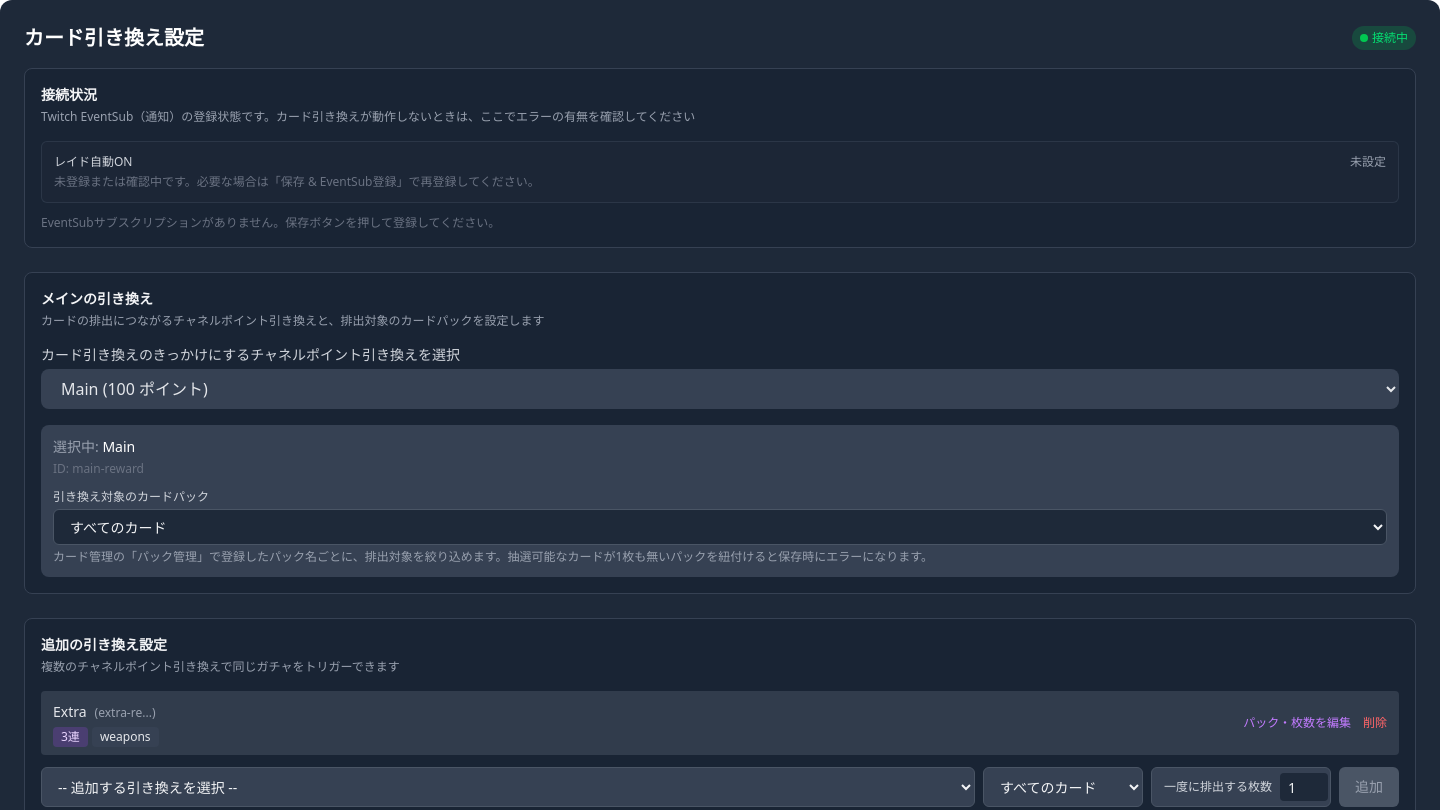
Test: ChannelPointSettings additional-reward editing › closes the edit form on cancel without sending a PUT
Click the button with aria-label "のパック・枚数を編集": (1297, 723) [1243,715,1351,731]
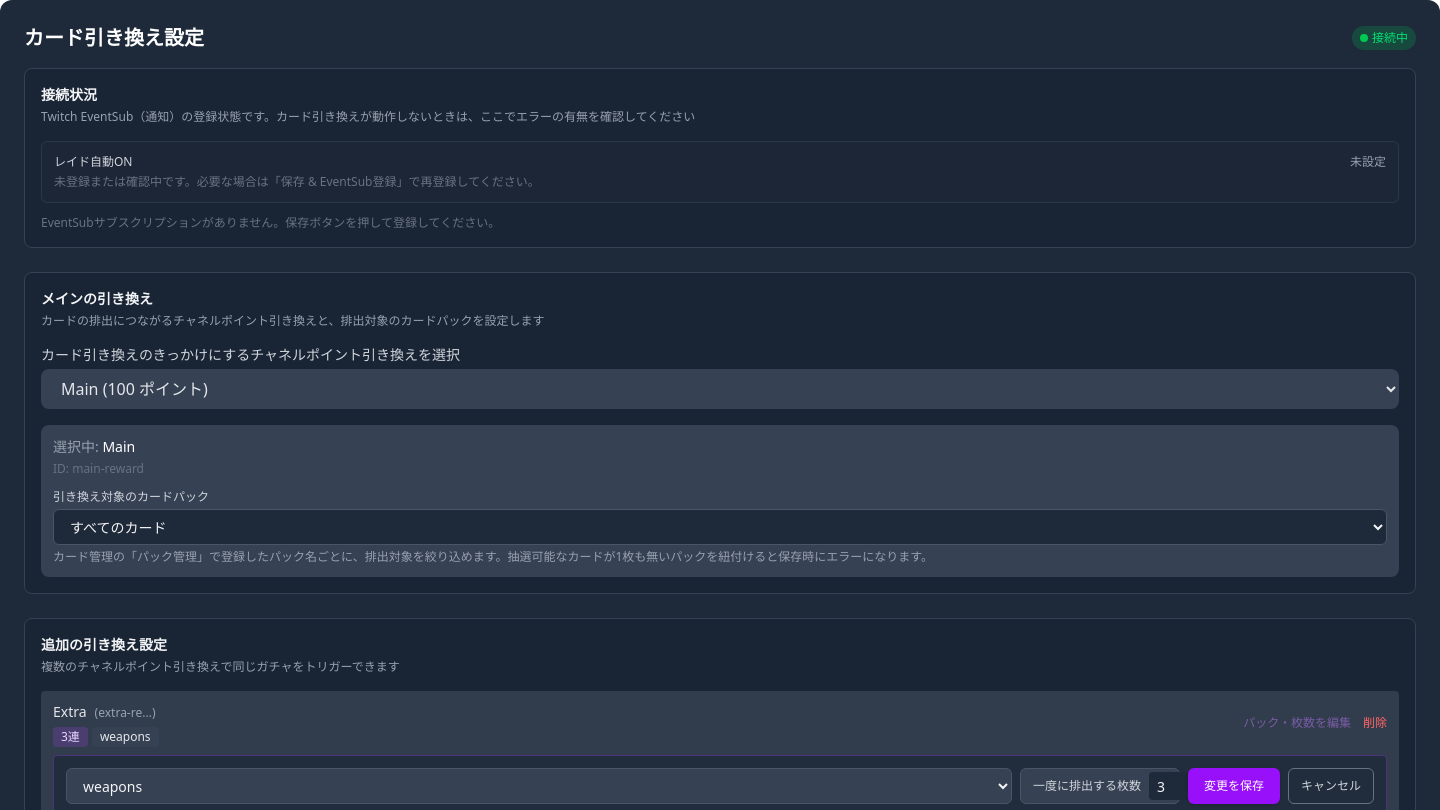
Result: the button "キャンセル" is shown
Click the button "キャンセル": (1331, 786) [1288,768,1374,804]
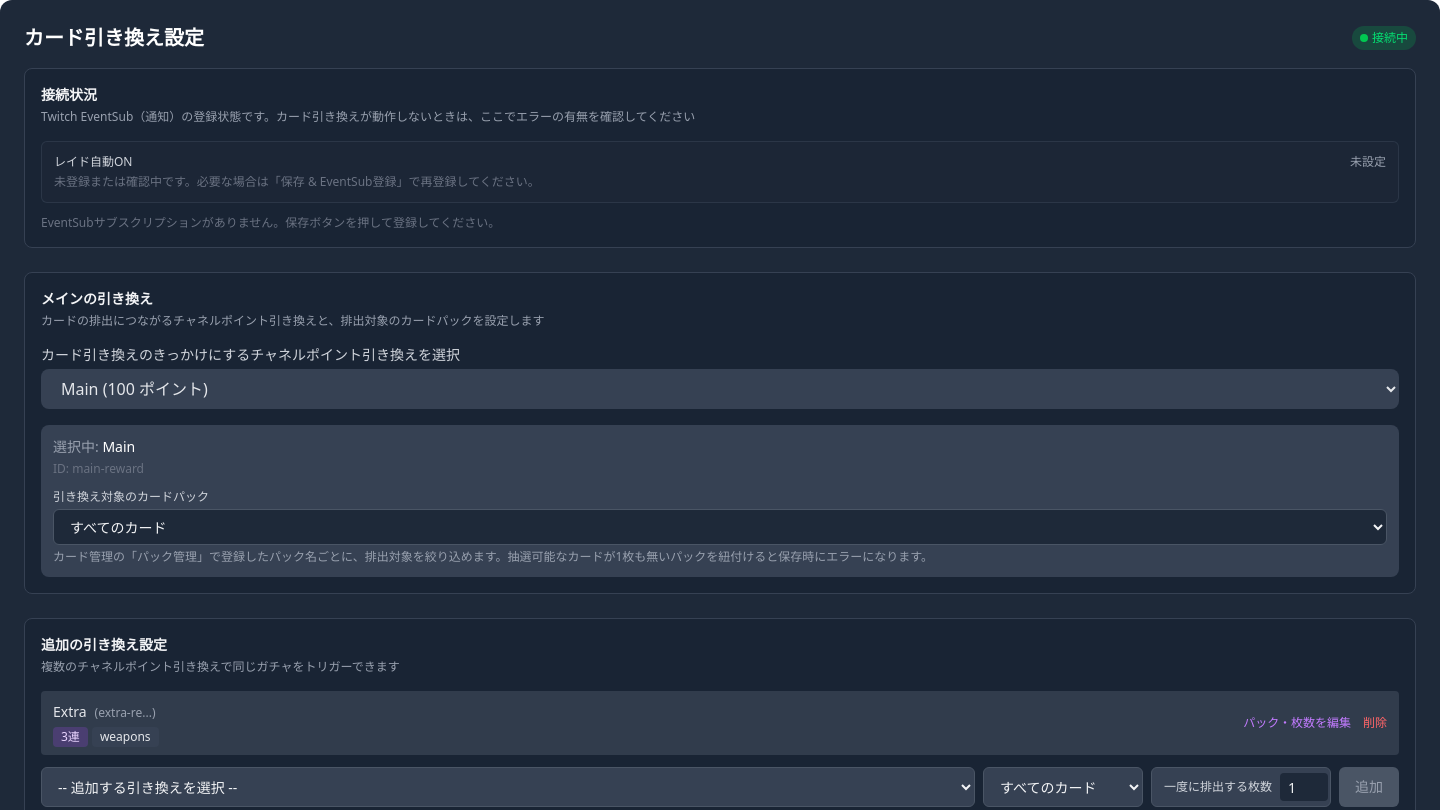
Result: the button "キャンセル" is gone
